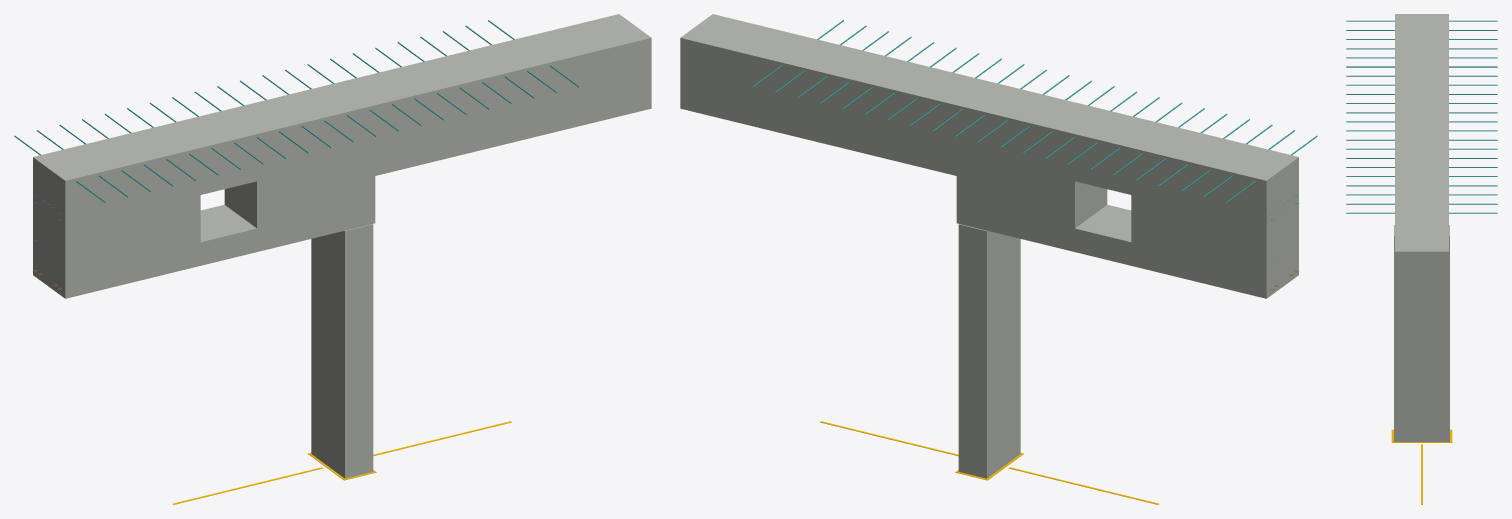
The model's file is unterzug-441-vorort.glb.
3 renders of one model, left to right at view 1: azimuth 30°, elevation 25°; view 2: azimuth 150°, elevation 25°; view 3: azimuth 270°, elevation 25°, orthographic. The views are drawn at different scales.
Visible parts, largest first — view 1: Beton; view 2: Beton; view 3: Beton, Pos_30_geschaetzt_143, Pos_30_geschaetzt_146, Pos_30_geschaetzt_147, Pos_30_geschaetzt_148, Pos_30_geschaetzt_149, Pos_30_geschaetzt_150, Pos_30_geschaetzt_153, Pos_30_geschaetzt_154, Pos_30_geschaetzt_155, Pos_30_geschaetzt_156, Pos_30_geschaetzt_157 (+4 smaller).
Part boxes in pixels (bbox=[...]): Beton: bbox=[33, 14, 651, 478]; Beton: bbox=[680, 14, 1298, 478]; Beton: bbox=[1394, 14, 1449, 441]; Pos_30_geschaetzt_143: bbox=[1346, 20, 1497, 21]; Pos_30_geschaetzt_146: bbox=[1346, 48, 1497, 49]; Pos_30_geschaetzt_147: bbox=[1346, 57, 1497, 58]; Pos_30_geschaetzt_148: bbox=[1346, 66, 1497, 67]; Pos_30_geschaetzt_149: bbox=[1346, 75, 1497, 76]; Pos_30_geschaetzt_150: bbox=[1346, 84, 1497, 85]; Pos_30_geschaetzt_153: bbox=[1346, 112, 1497, 113]; Pos_30_geschaetzt_154: bbox=[1346, 121, 1497, 122]; Pos_30_geschaetzt_155: bbox=[1346, 130, 1497, 131]; Pos_30_geschaetzt_156: bbox=[1346, 139, 1497, 140]; Pos_30_geschaetzt_157: bbox=[1346, 148, 1497, 149].
Bounding box in the file's own units: 5.25 × 3.1 × 1.4.
